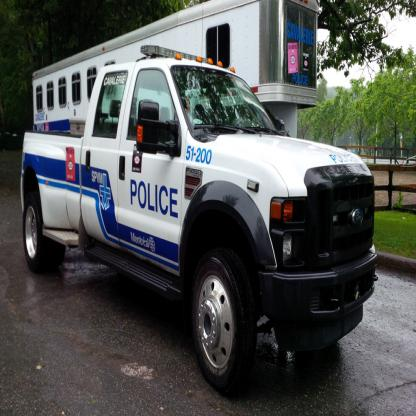Truck: (20, 45, 378, 395)
